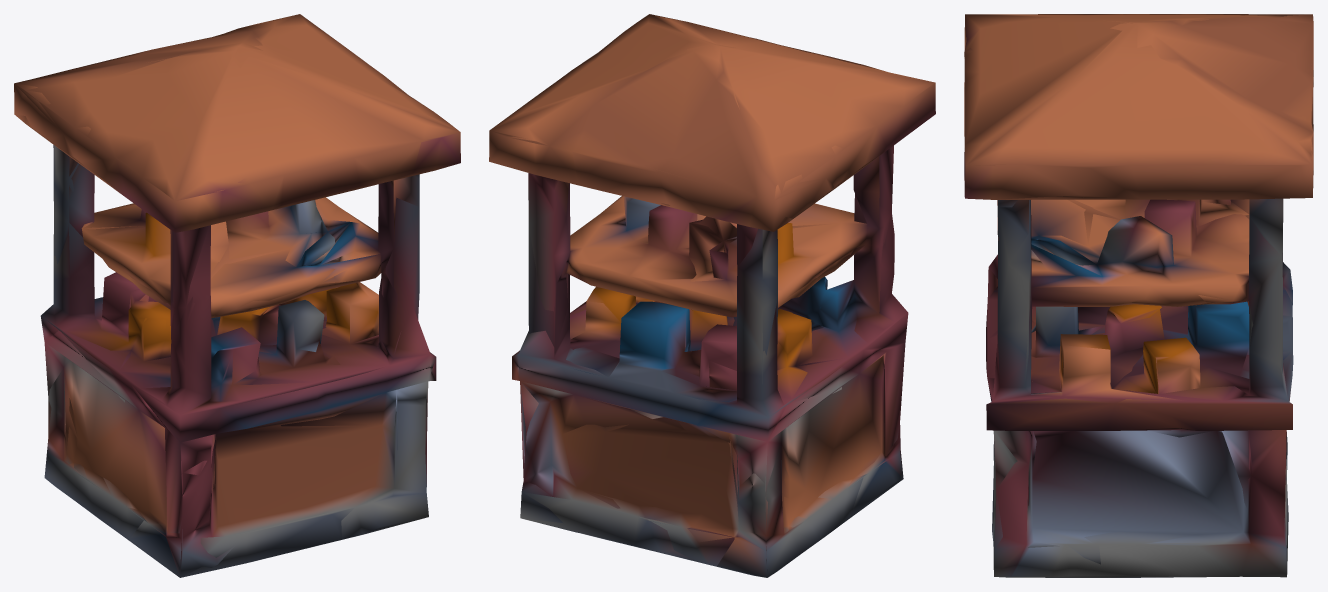
File: gen3d-mall-kiosk-lod0.glb
3 renders of one model, left to right at view 1: azimuth 30°, elevation 25°; view 2: azimuth 150°, elevation 25°; view 3: azimuth 270°, elevation 25°, orthographic. The views are drawn at different scales.
Parts seen in each view (by area): view 1: part_0; view 2: part_0; view 3: part_0.
Boxes of the visible parts, x1=… form: part_0: x1=14, y1=14, x2=460, y2=577; part_0: x1=489, y1=14, x2=935, y2=577; part_0: x1=964, y1=14, x2=1313, y2=577.
Size of the model in its own units: 0.6611 by 1 by 0.6459.
